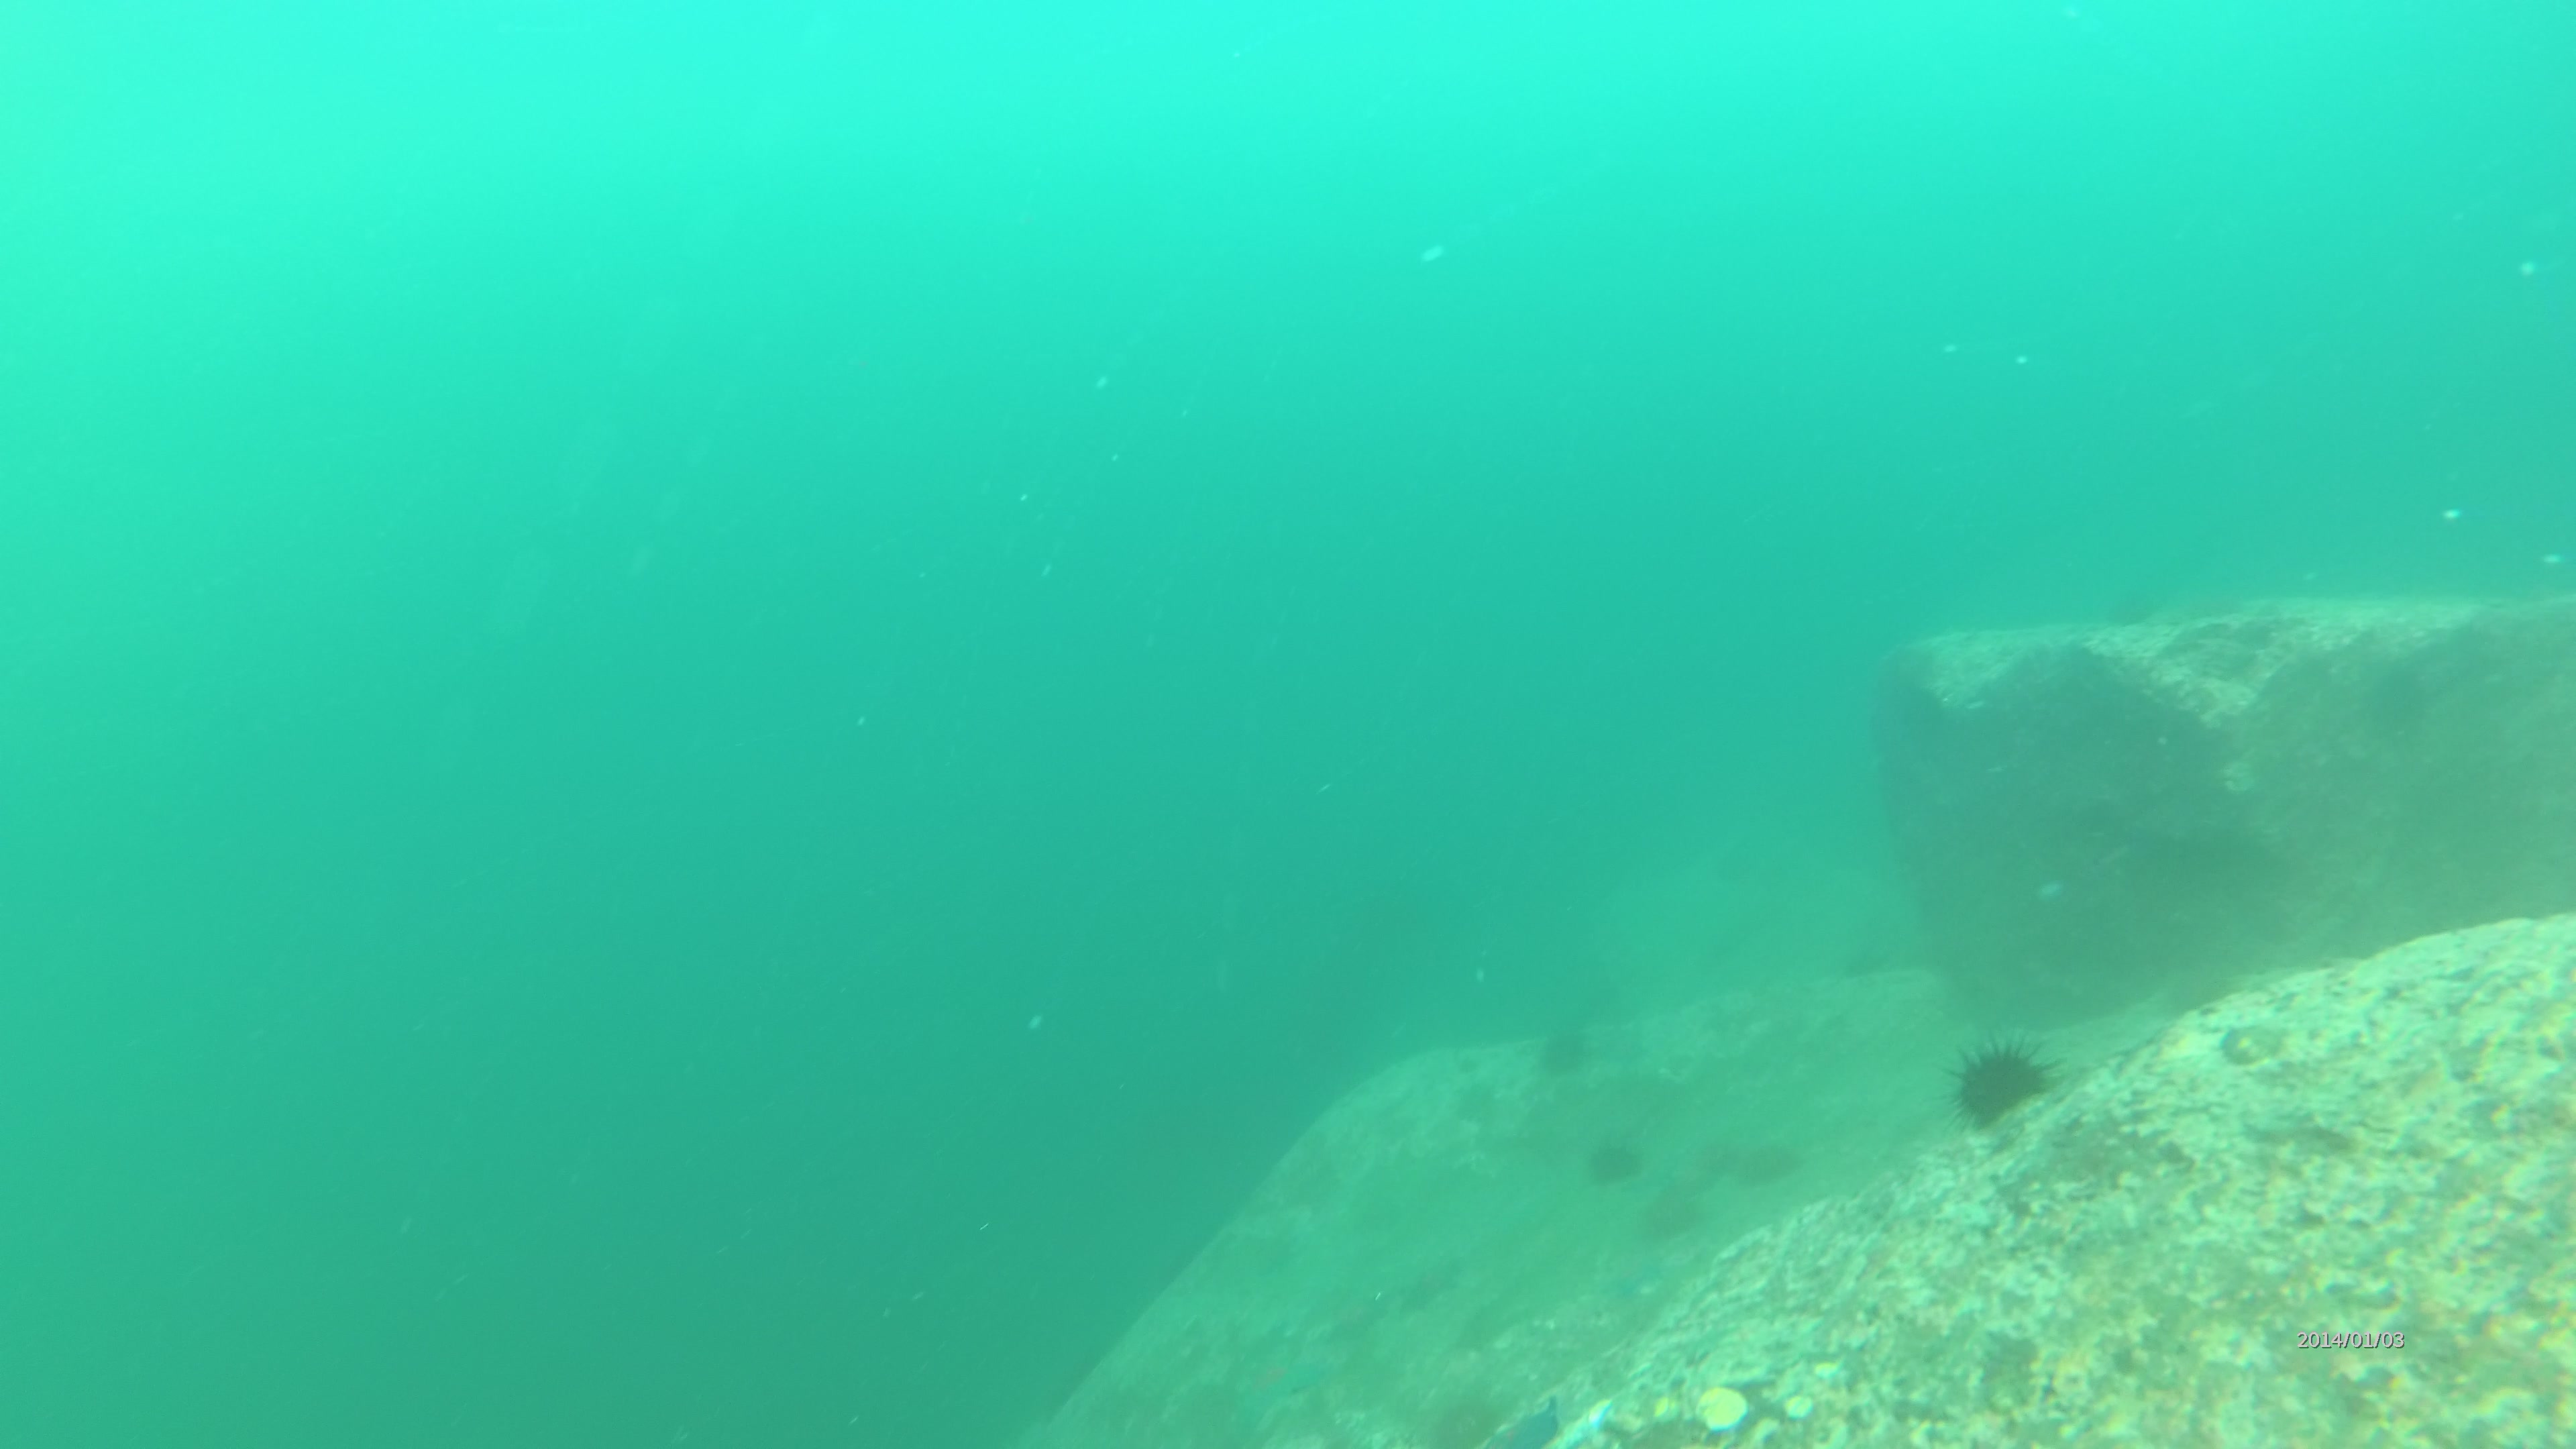echinus: (1943, 1031, 2065, 1125), (1635, 1182, 1706, 1238), (1536, 1023, 1598, 1083), (1736, 1123, 1790, 1191), (1580, 1138, 1645, 1182)
